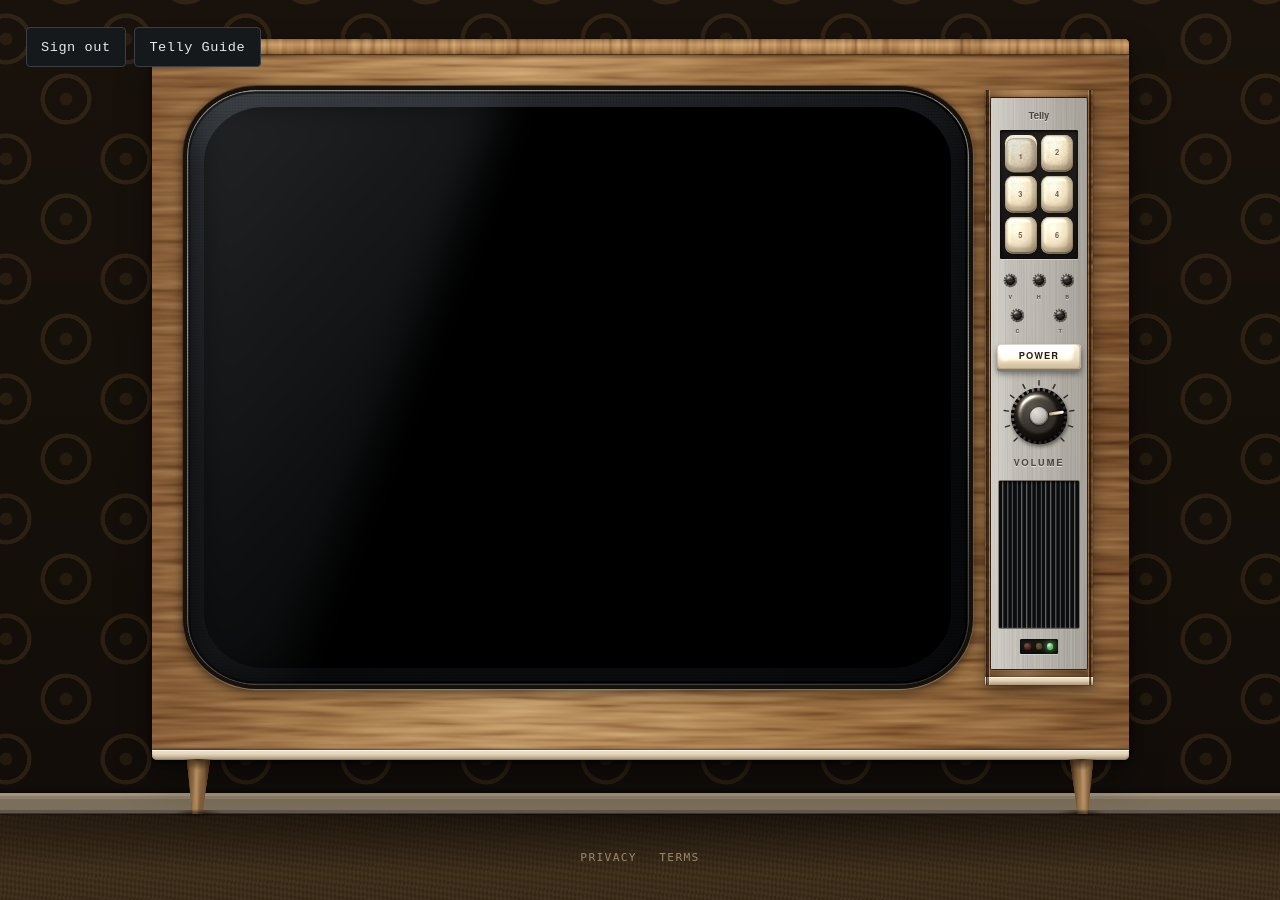
Test: Channel › the Google session › starts the count from nothing again after signing out and back in
The width and height of the screenshot is (1280, 900).
Expected: the button "Telly Guide" is enabled, [134,27,260,67]
Click the button "Sign out".
click(76, 47)  # box [26,27,126,67]
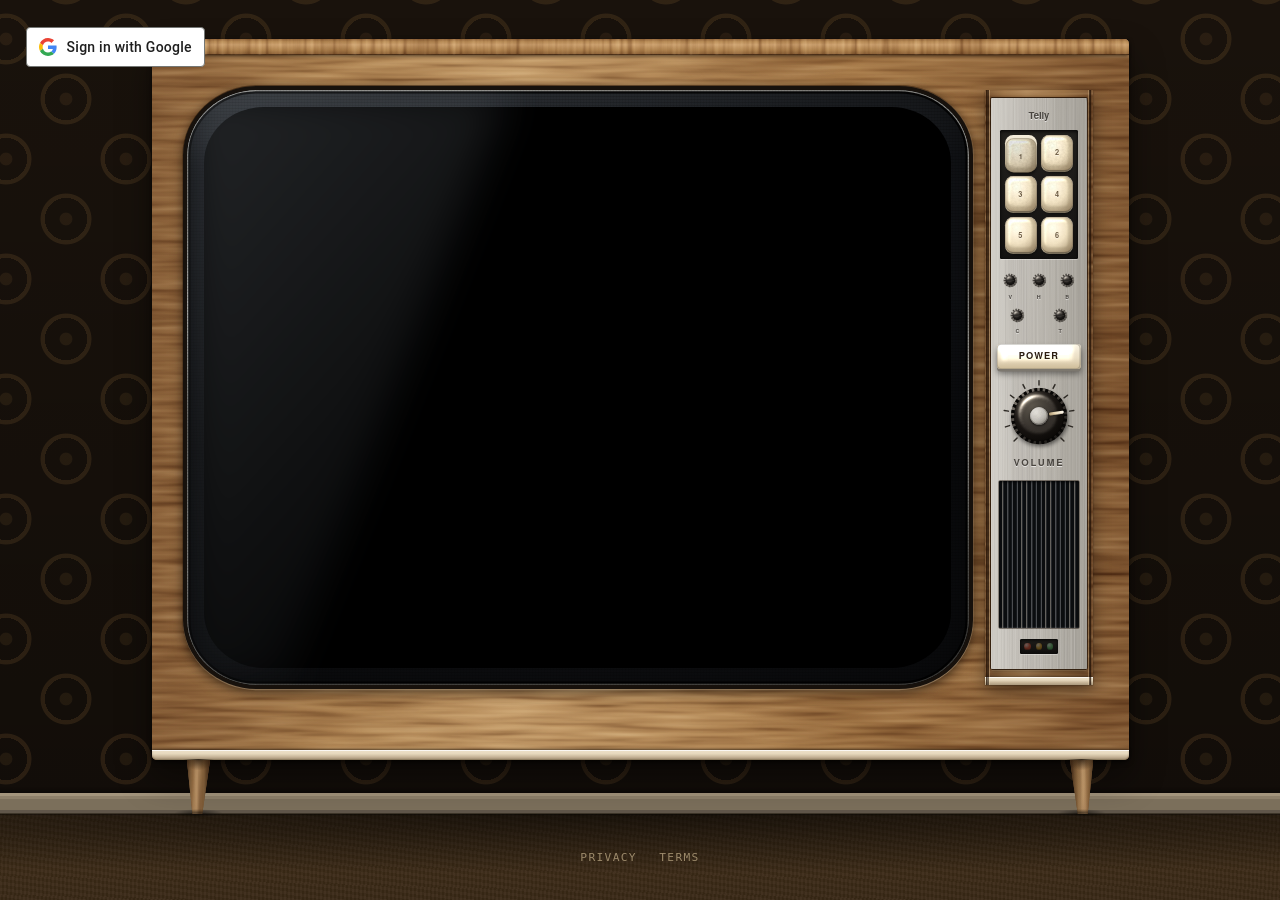
Expected: the button "Sign in with Google" is shown
Click the button "Sign in with Google".
click(115, 47)  # box [26,27,205,67]
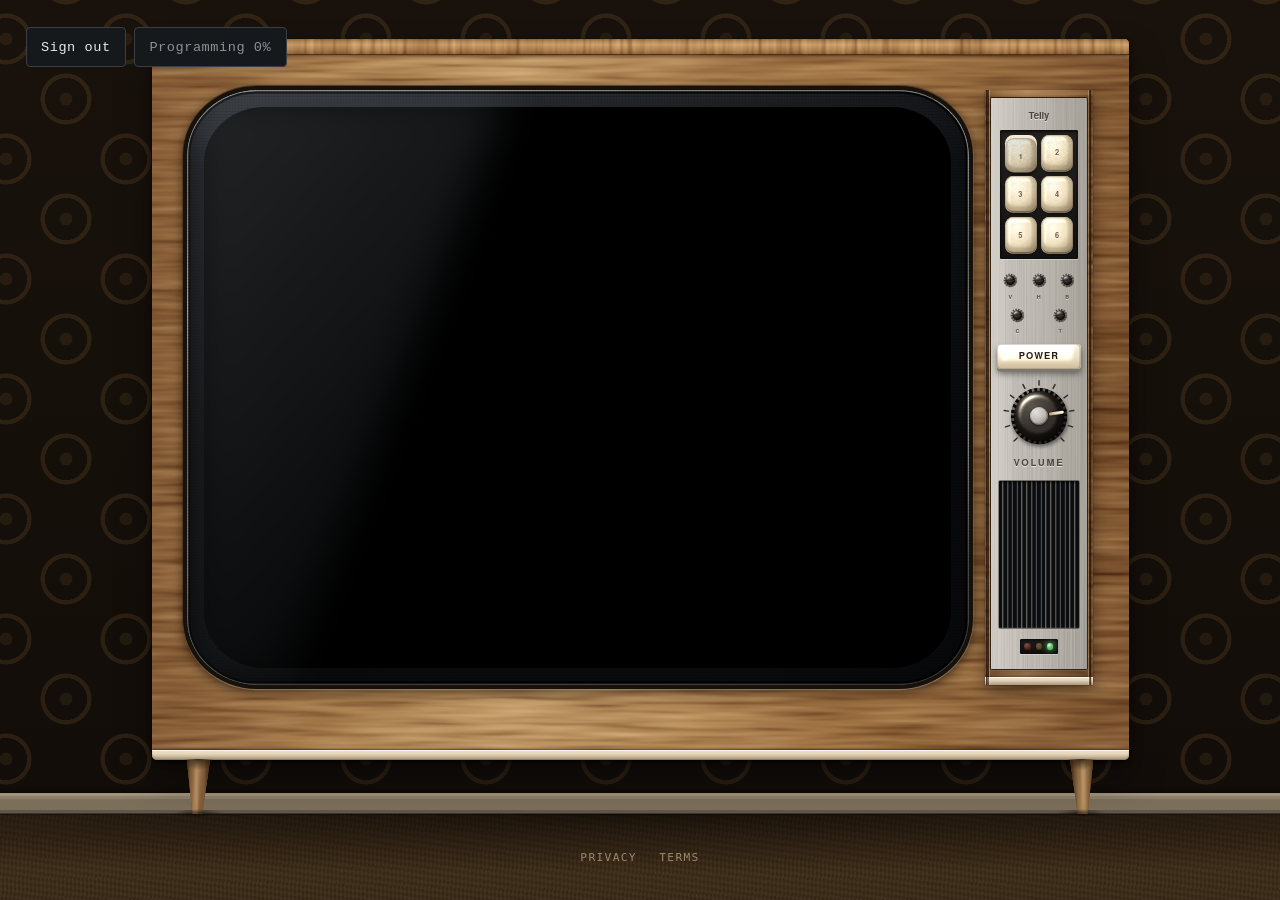
Expected: the button "Programming 0%" is shown, [134,27,287,67]
